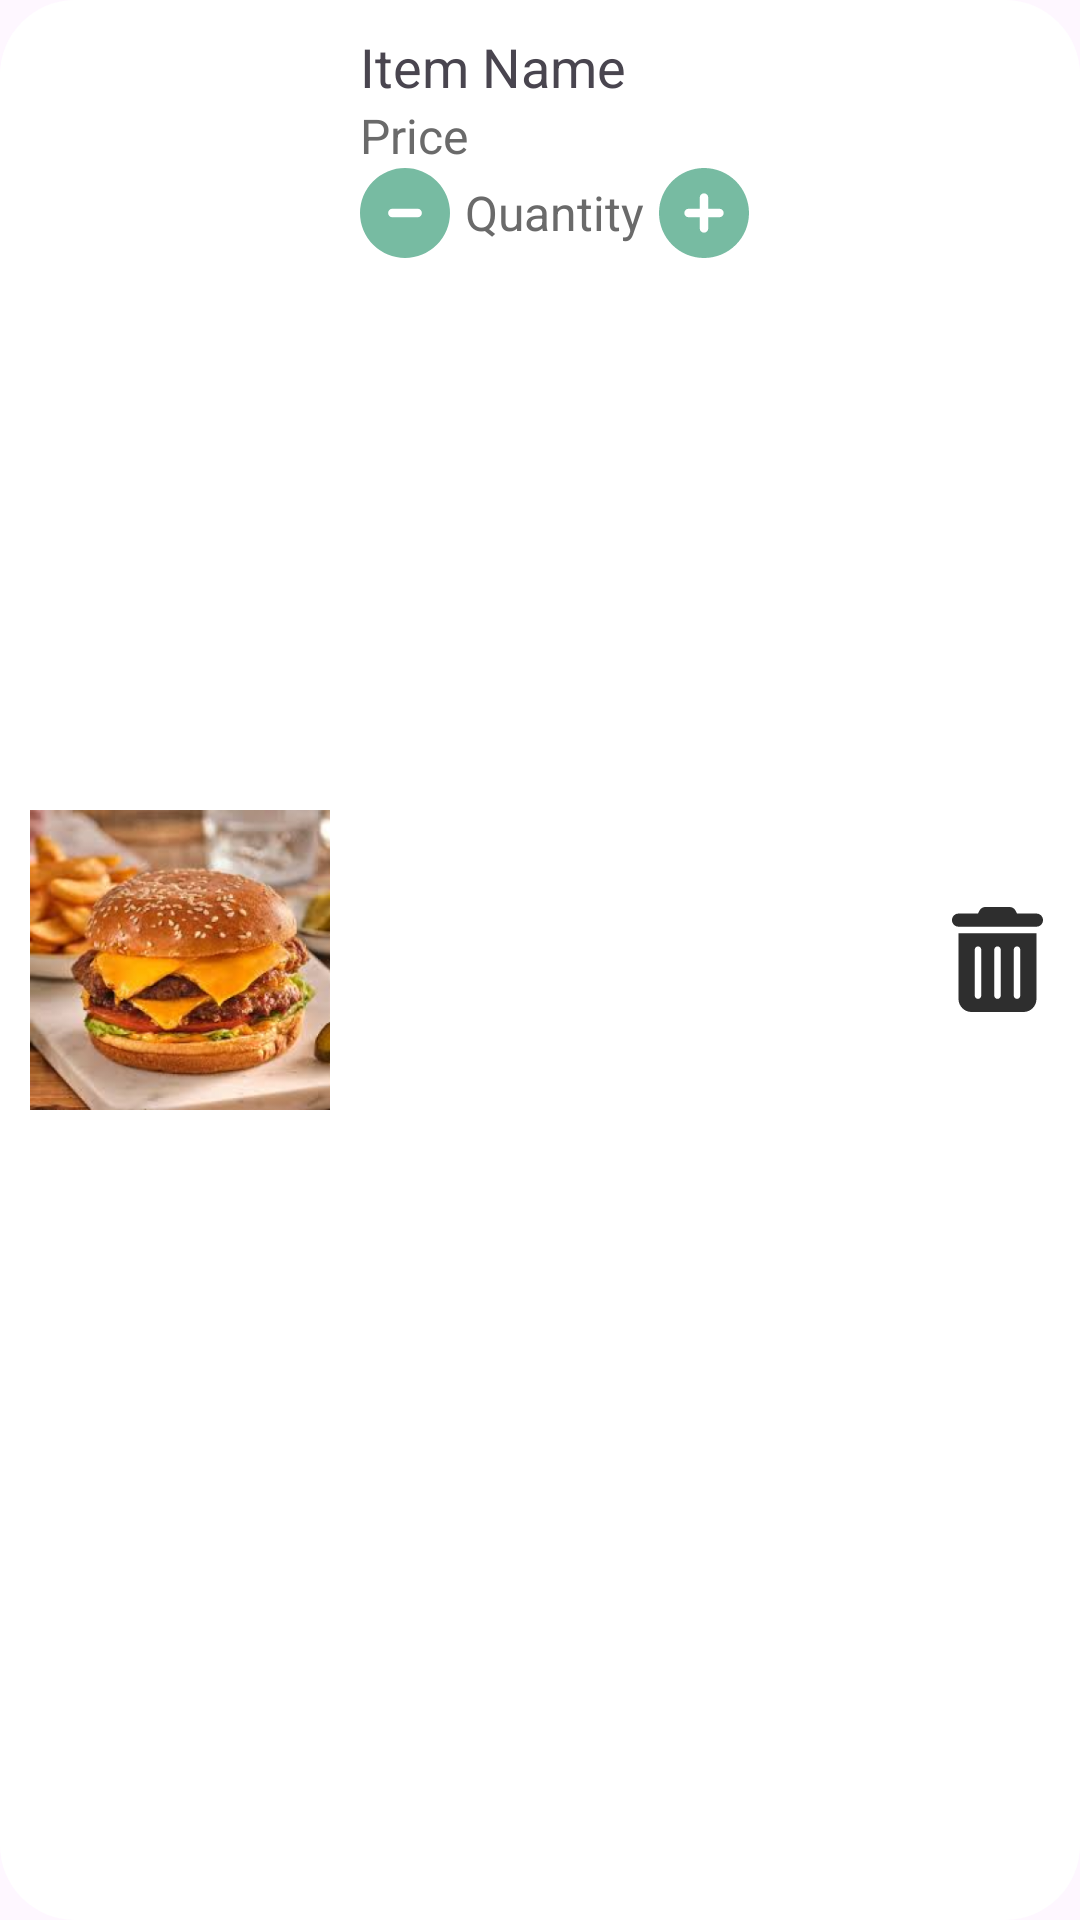

Locate icon controls on the screen. Image size 1080 x 1920, boxes as (x1, y1, x2, y2).
circle minus: (360, 168, 450, 258)
circle plus: (659, 168, 749, 258)
trash can: (952, 907, 1043, 1012)
